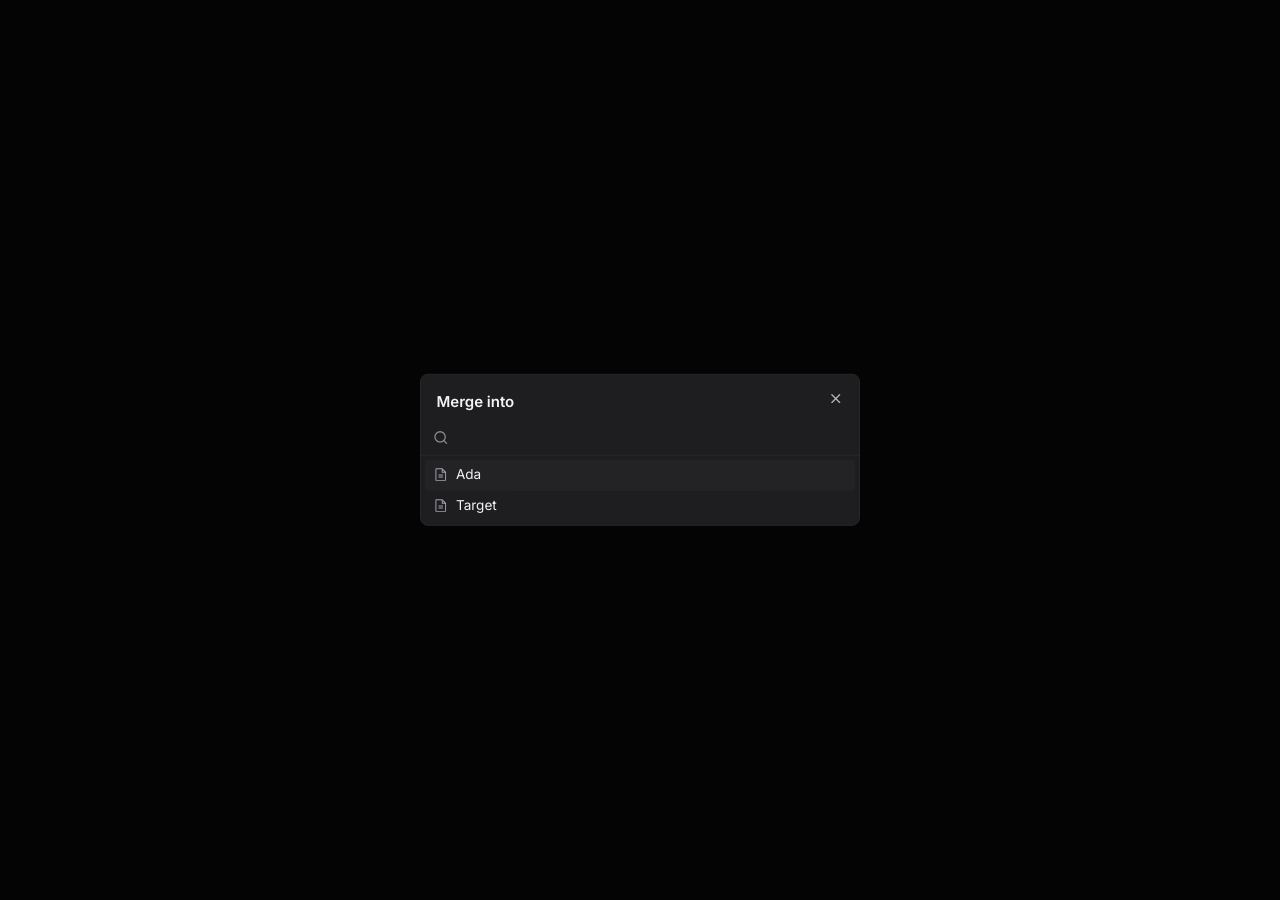
Test case: MergeDialog › test confirm then merge opens the target
Later steps or results of the test are not shown.
Click the option "Target": (465, 505) [433,497,497,514]
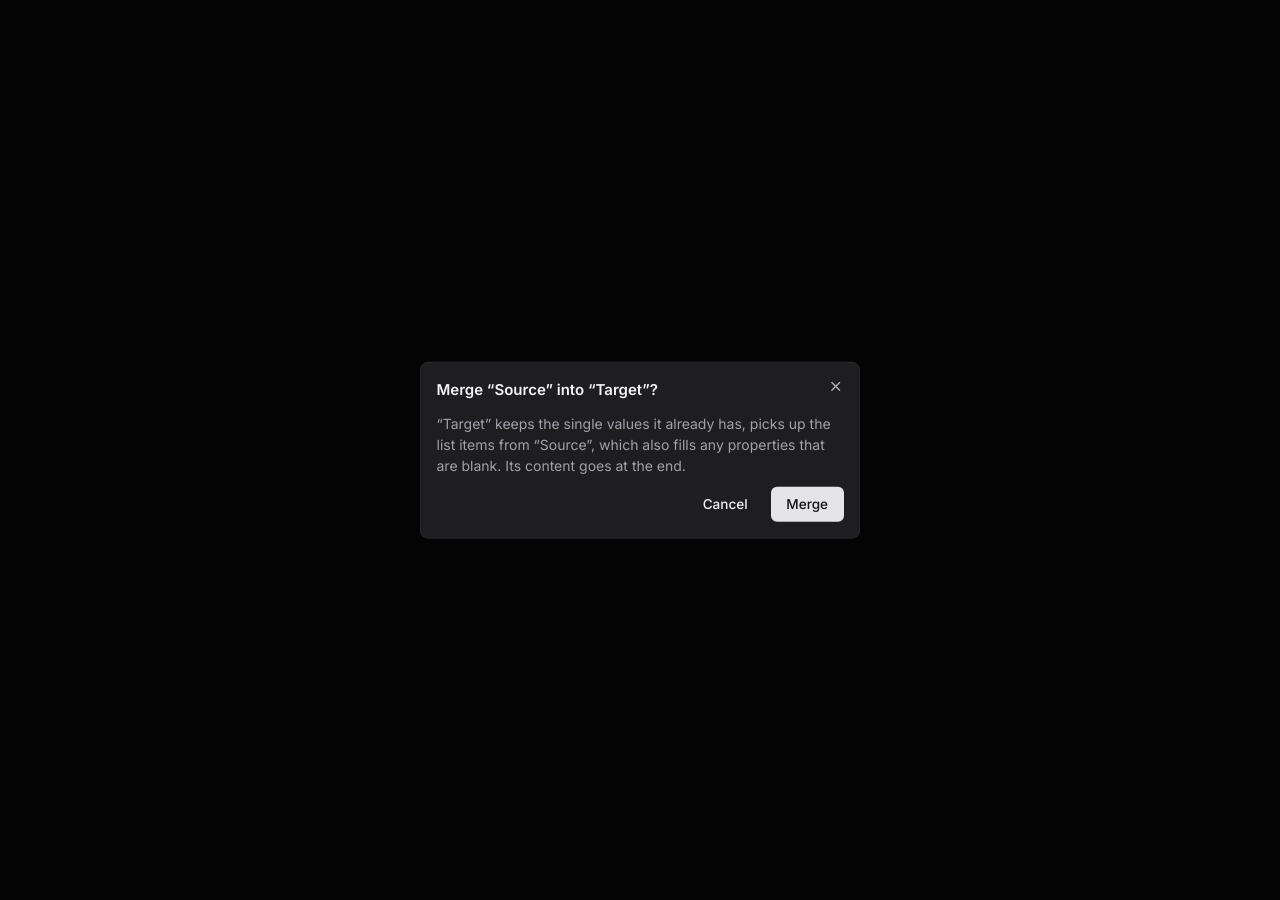
Expected: the heading "Merge “Source” into “Target”?" is shown, [436,379,658,398]
Expected: the text "“Target” keeps the single values it already has, picks up the list items from “Source”, which also fills any properties " is shown, [436,414,831,473]
Click the button "Merge": (807, 504) [771,487,844,522]
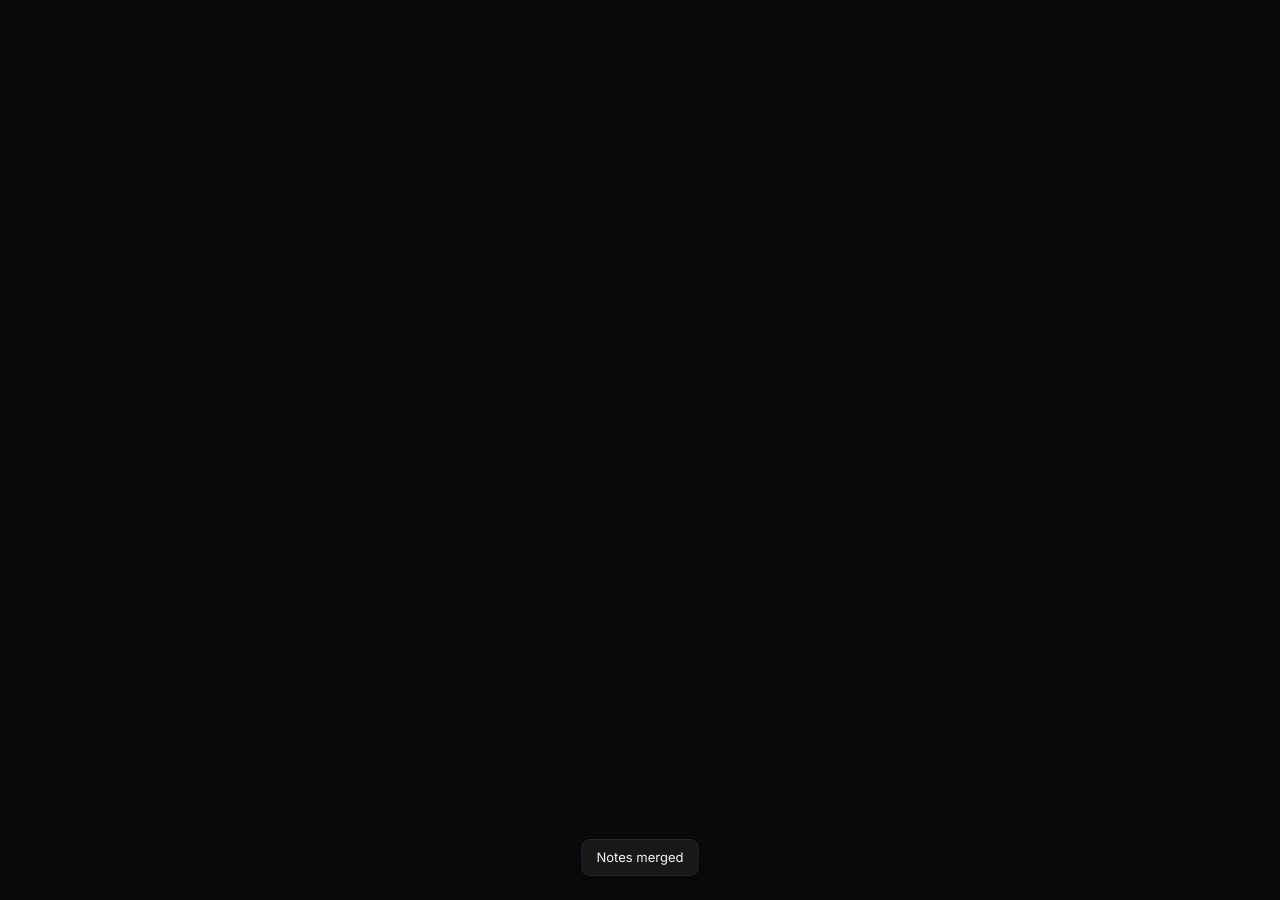
Expected: the element showing "Notes merged" is shown, [582,838,698,876]
